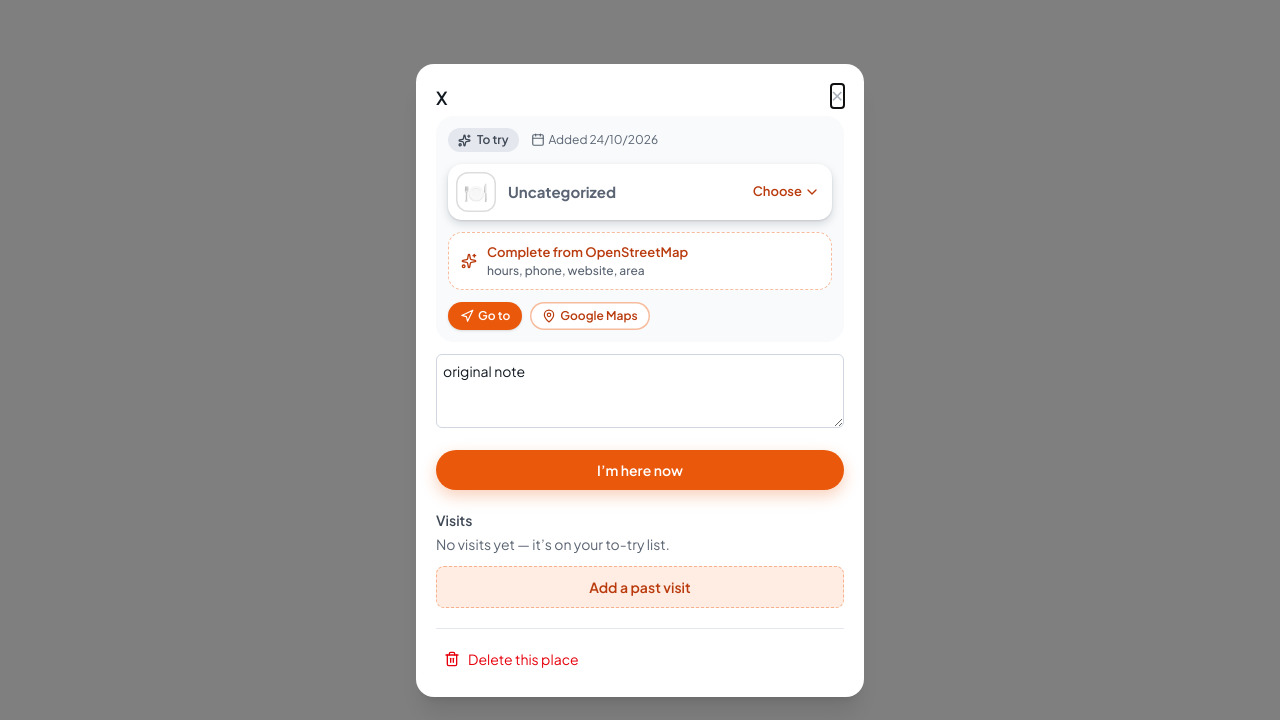
it: RestaurantDetail › keeps in-progress unsaved note text when an external store write lands while the field is focused
Type " plus my edit" into the text box named "Notes" at {"x": 640, "y": 390}, box [436,354,844,428]
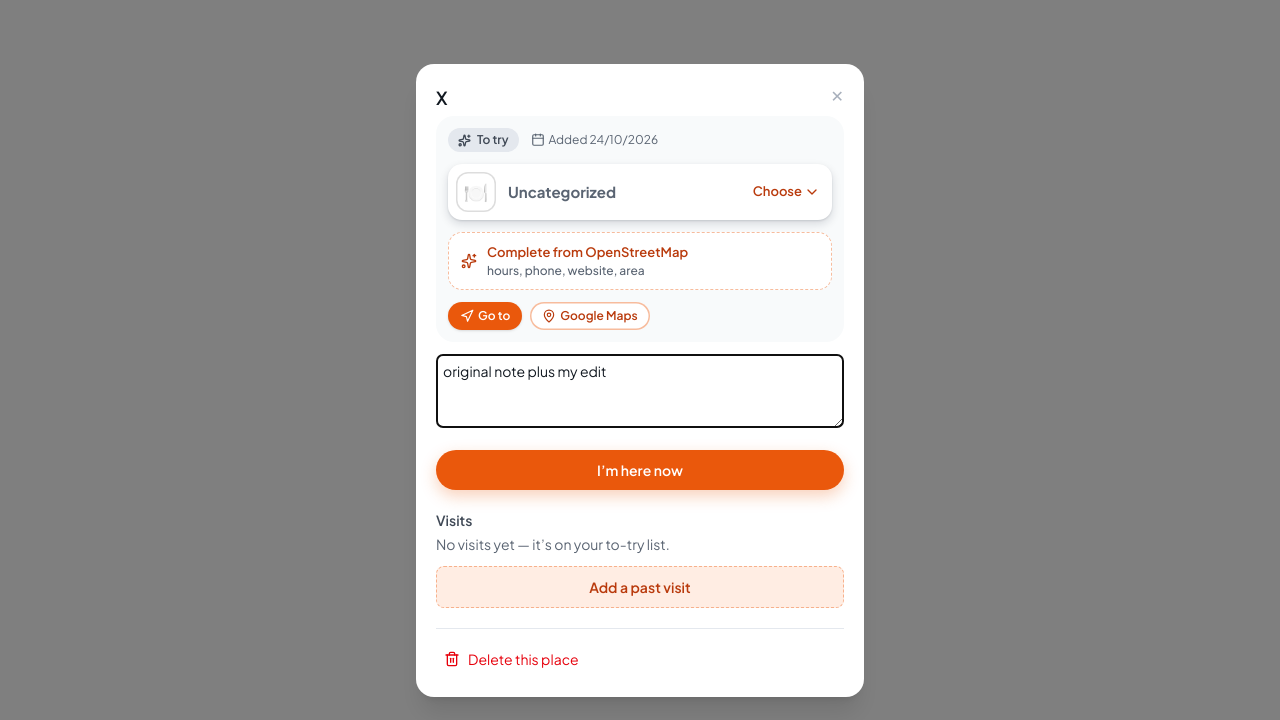
expect the text box named "Notes" holds "original note plus my edit": met, box [436,354,844,428]
